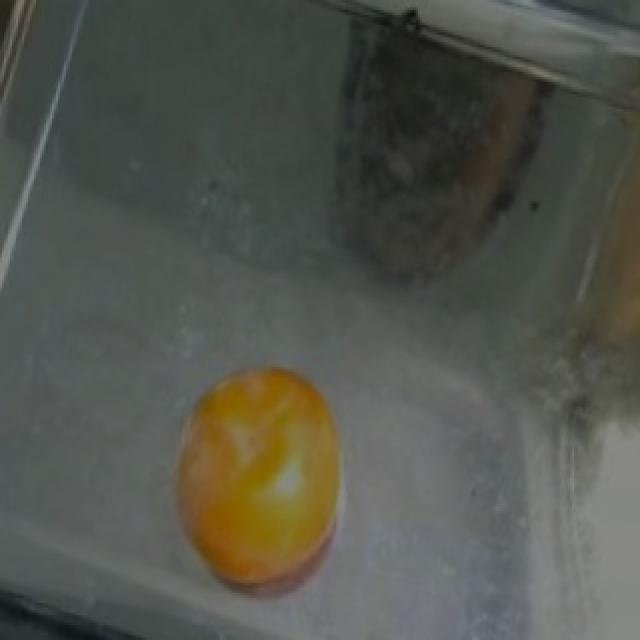Fruit: (154, 360, 366, 612)
